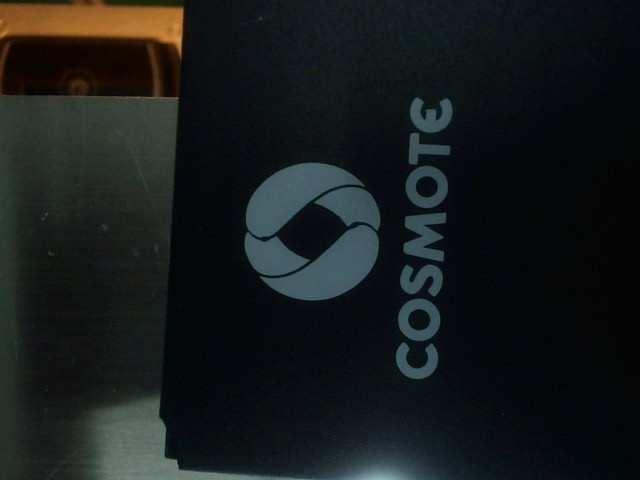AU_COSMOTE: (232, 84, 461, 383)
